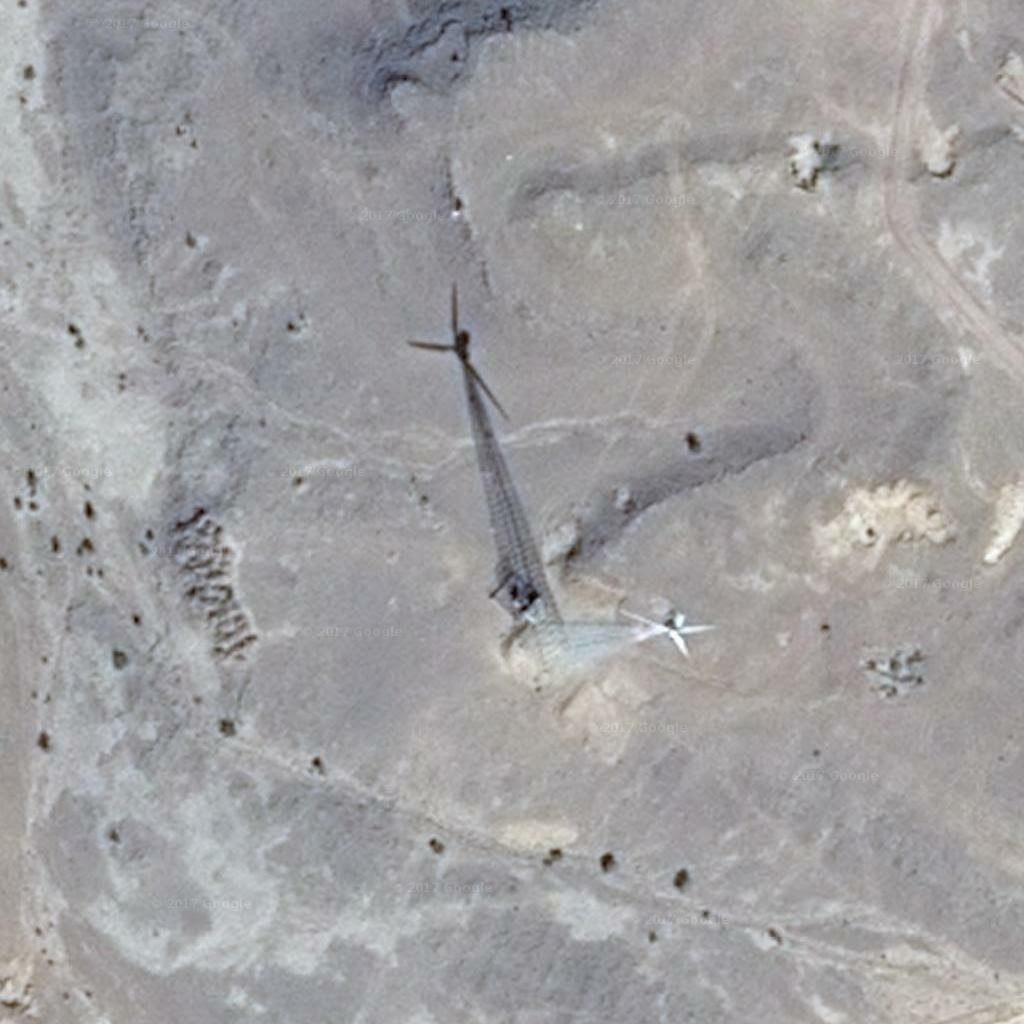Windmill: (408, 280, 556, 584)
